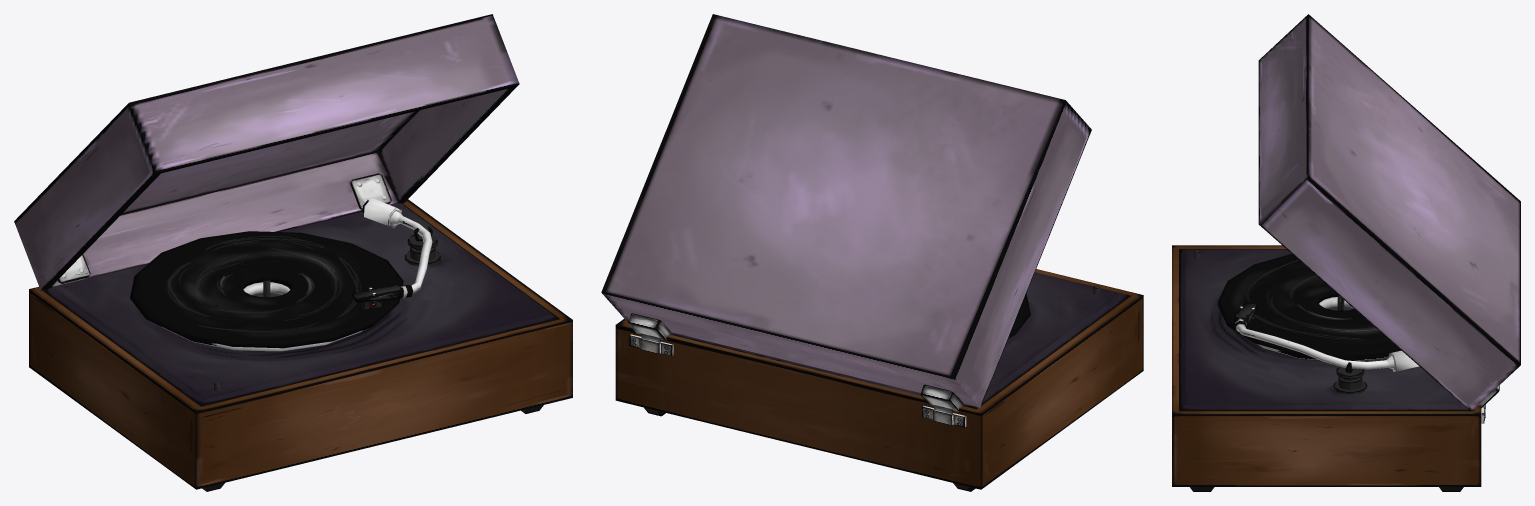
Rendered from GAD4_PropAnimation_EvaRoderick.fbx.
3 renders of one model, left to right at view 1: azimuth 30°, elevation 25°; view 2: azimuth 150°, elevation 25°; view 3: azimuth 270°, elevation 25°, orthographic. The views are drawn at different scales.
Parts seen in each view (by area): view 1: Base.001, Cover.001, Record.002, Needle_Long.001, Record.003, Needle_Circle.001; view 2: Cover.001, Base.001, Nail_Base.001; view 3: Cover.001, Base.001, Record.002, Needle_Long.001, Needle_Circle.001, Record.003.
Boxes of the visible parts, left/top/right/bottom form: Base.001: left=29, top=199, right=572, bottom=491; Cover.001: left=14, top=14, right=519, bottom=291; Record.002: left=130, top=231, right=403, bottom=348; Needle_Long.001: left=352, top=198, right=432, bottom=310; Record.003: left=162, top=282, right=362, bottom=351; Needle_Circle.001: left=404, top=234, right=440, bottom=266; Cover.001: left=601, top=14, right=1091, bottom=411; Base.001: left=615, top=269, right=1143, bottom=491; Nail_Base.001: left=629, top=333, right=966, bottom=427; Cover.001: left=1258, top=14, right=1520, bottom=411; Base.001: left=1172, top=245, right=1481, bottom=491; Record.002: left=1218, top=254, right=1401, bottom=358; Needle_Long.001: left=1234, top=303, right=1419, bottom=371; Needle_Circle.001: left=1333, top=366, right=1367, bottom=394; Record.003: left=1258, top=297, right=1389, bottom=360.
Size of the model in its own units: 109 by 96.11 by 94.66.
